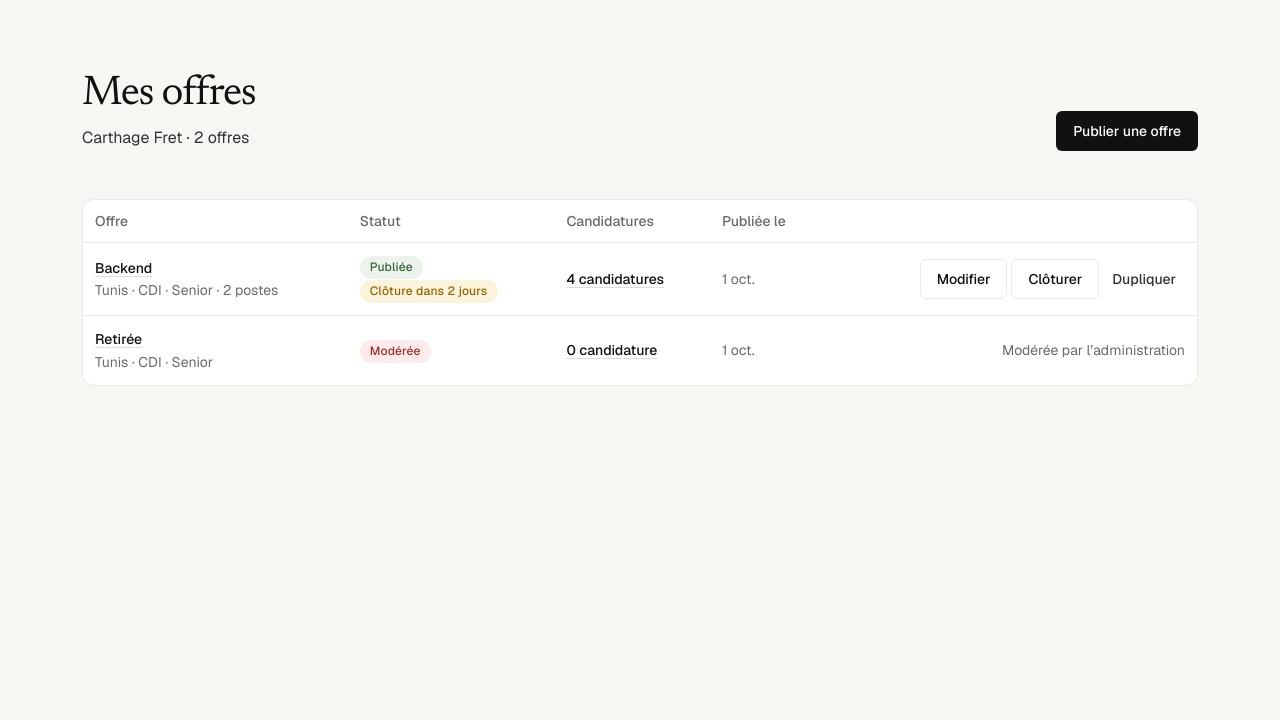
Test: duplicating an offer (EXT-JOB-01) › adds the draft copy at the top of the list
Expected: the text "Clôture dans 2 jours" is shown, [360,280,498,303]
Expected: the text "Tunis · CDI · Senior · 2 postes" is shown, [95,281,278,299]
Click the button with aria-label "Dupliquer l’offre Backend": x=1144, y=279 [1103,259,1185,299]
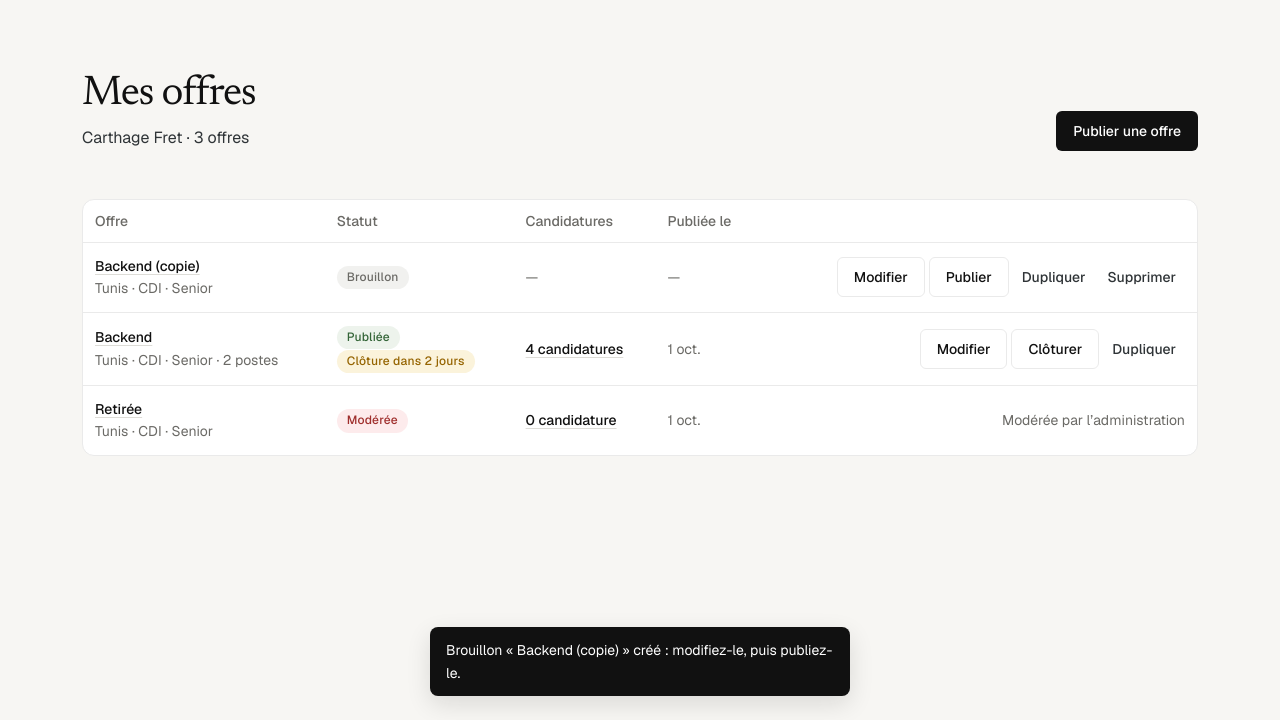
Expected: the link "Backend (copie)" is shown, [95,257,200,275]
Expected: the text "Brouillon" is shown, [337,266,409,289]
Expected: the text "Brouillon « Backend (copie) » créé" is shown, [446,641,832,682]
